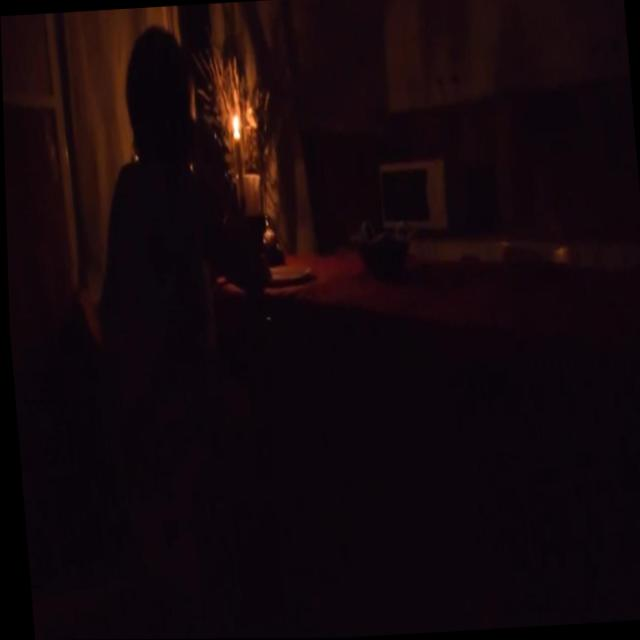fire: (230, 113, 240, 136)
